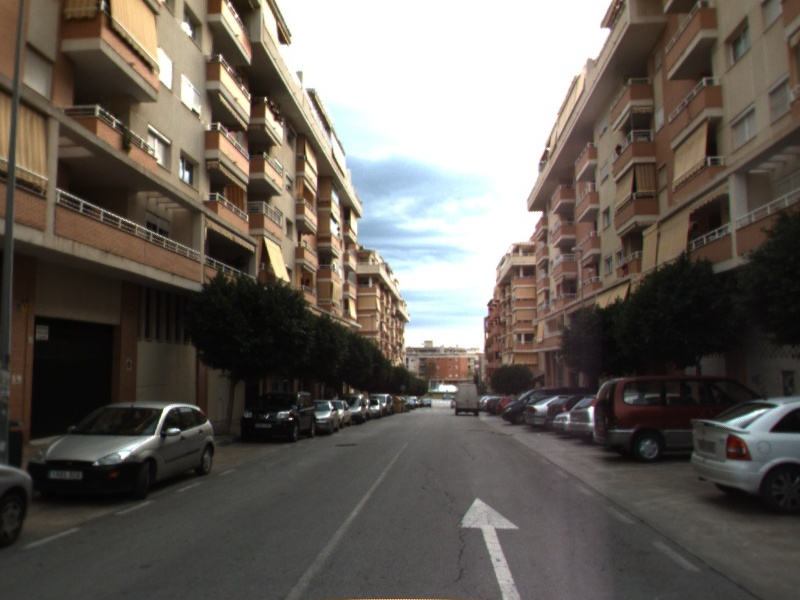STRAIGHT: (455, 495, 524, 600)
